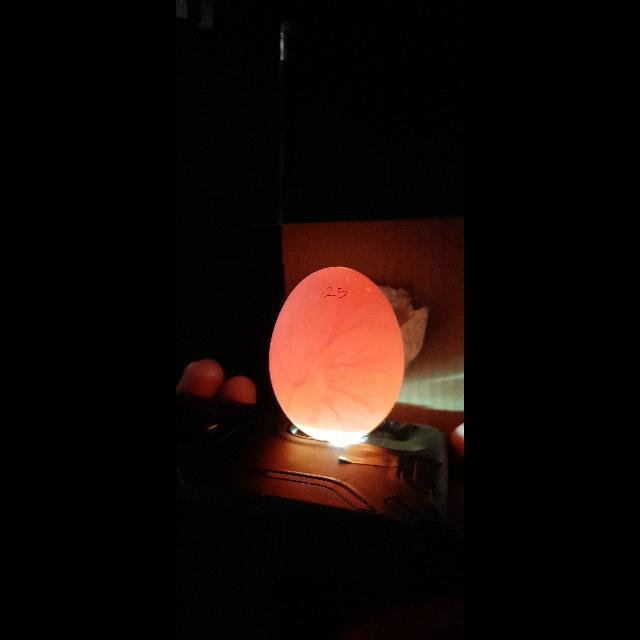Fertile: (264, 262, 406, 450)
